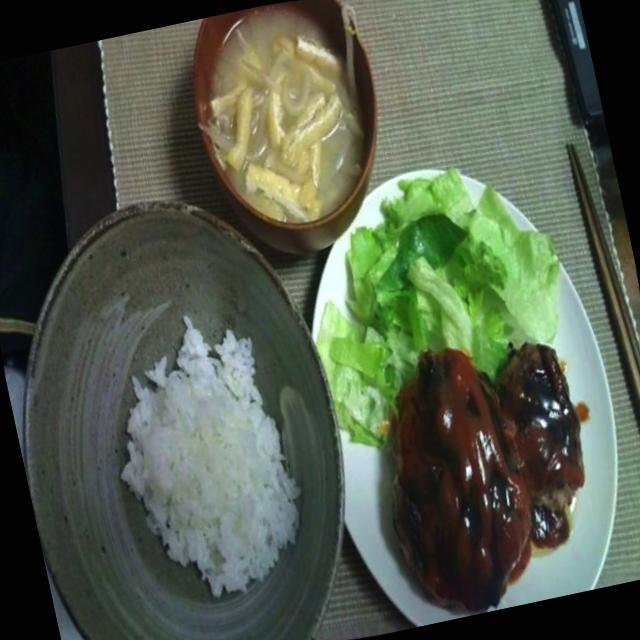Rice: (88, 289, 324, 606)
